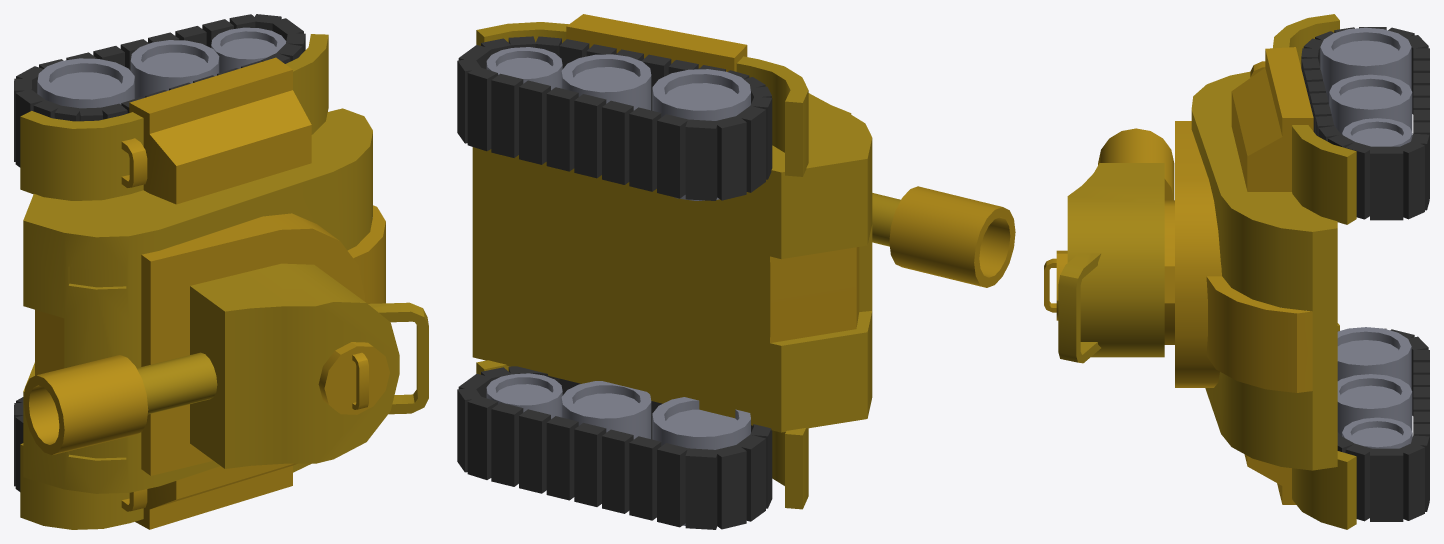
File: camp-breaker.glb
3 views of the same model, side by side, from view 1: azimuth 30°, elevation 25°; view 2: azimuth 150°, elevation 25°; view 3: azimuth 270°, elevation 25° (orthographic). The views are drawn at different scales.
Parts seen in each view (by area): view 1: Tank; view 2: Tank; view 3: Tank.
Part boxes in pixels (x1,y1,x2,y2): Tank: [14, 14, 428, 529]; Tank: [457, 14, 1015, 529]; Tank: [1044, 14, 1429, 529].
Size of the model in its own units: 11 by 10.43 by 9.42.
